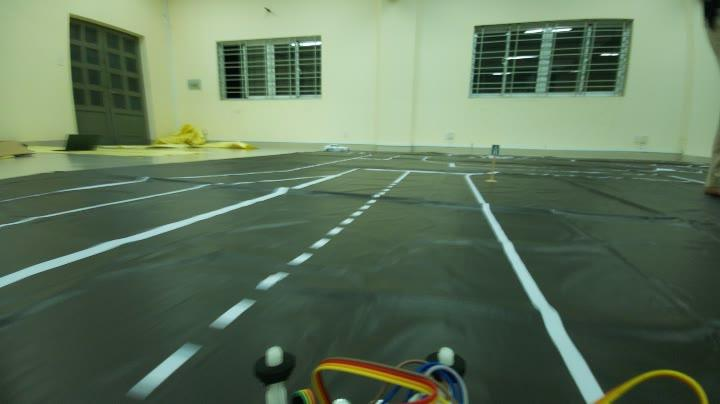highway_entry: (489, 140, 504, 158)
